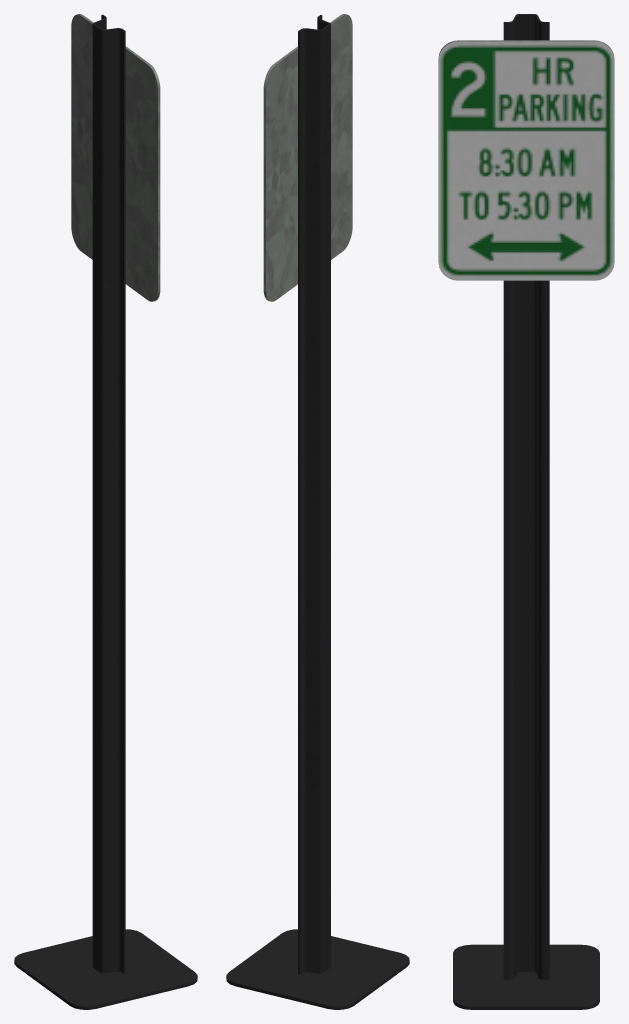
3 renders of one model, left to right at view 1: azimuth 30°, elevation 25°; view 2: azimuth 150°, elevation 25°; view 3: azimuth 270°, elevation 25°, orthographic.
Parts seen in each view (by area): view 1: Sign_2HRParking_100; view 2: Sign_2HRParking_100; view 3: Sign_2HRParking_100.
Boxes of the visible parts, bbox=[...] form: Sign_2HRParking_100: bbox=[14, 14, 197, 1009]; Sign_2HRParking_100: bbox=[226, 14, 409, 1009]; Sign_2HRParking_100: bbox=[438, 14, 614, 1009].
Bounding box in the file's own units: 0.254 × 1.84 × 0.3048.
1 material, 1 textured.
